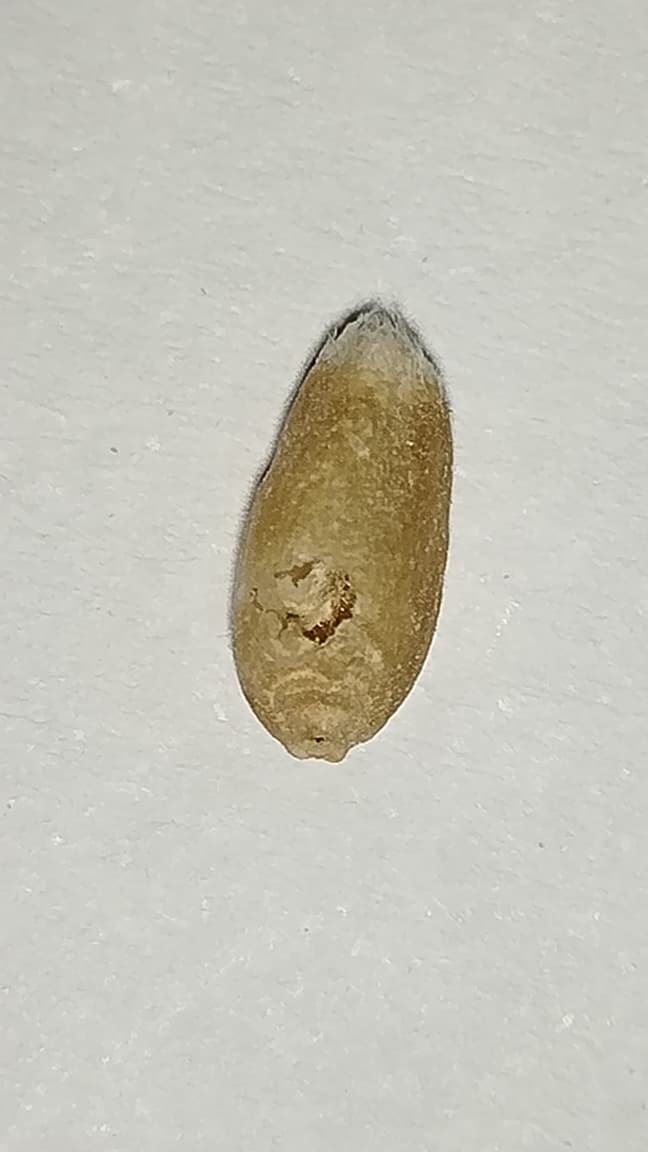damage: (232, 314, 458, 762)
insectdamage: (252, 543, 365, 649)
